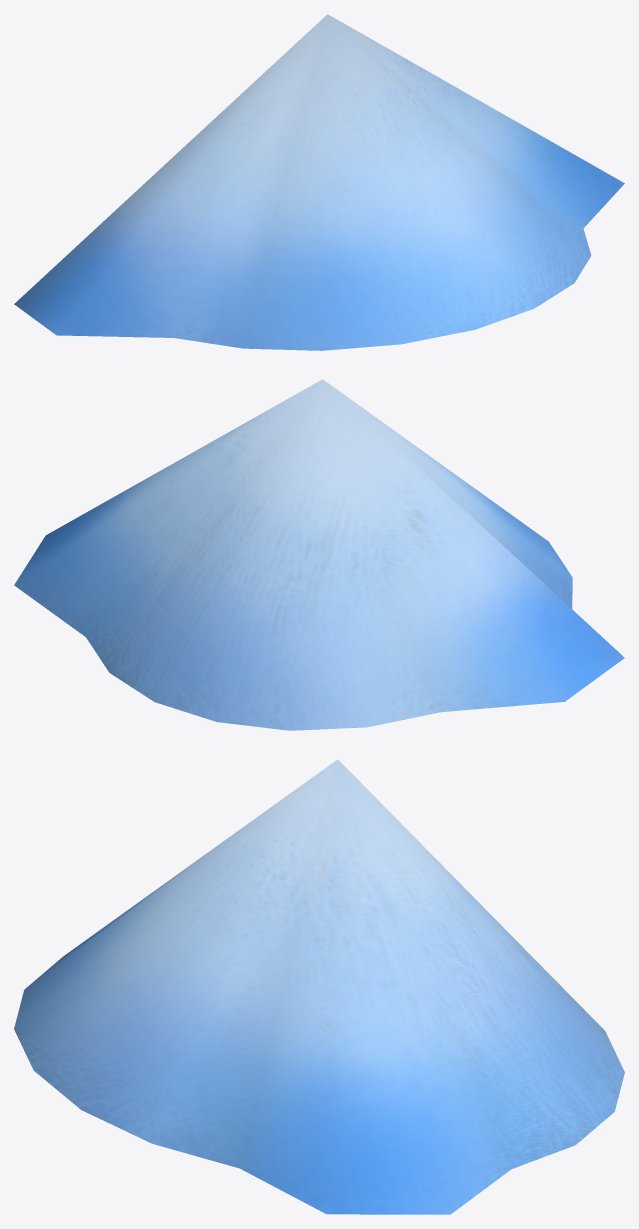
File: roof.fbx
3 renders of one model, top to bottom at view 1: azimuth 30°, elevation 25°; view 2: azimuth 150°, elevation 25°; view 3: azimuth 270°, elevation 25°, orthographic. The views are drawn at different scales.
Parts seen in each view (by area): view 1: pCone3; view 2: pCone3; view 3: pCone3.
Boxes of the visible parts, <box> form: pCone3: <box>14,14,624,350</box>; pCone3: <box>14,379,624,730</box>; pCone3: <box>14,759,624,1214</box>.
Size of the model in its own units: 8594 by 3737 by 6488.
1 material, 1 textured.
